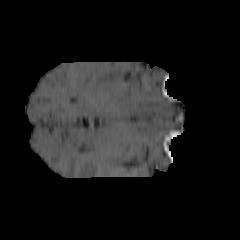glioma: (78, 76, 137, 127)
